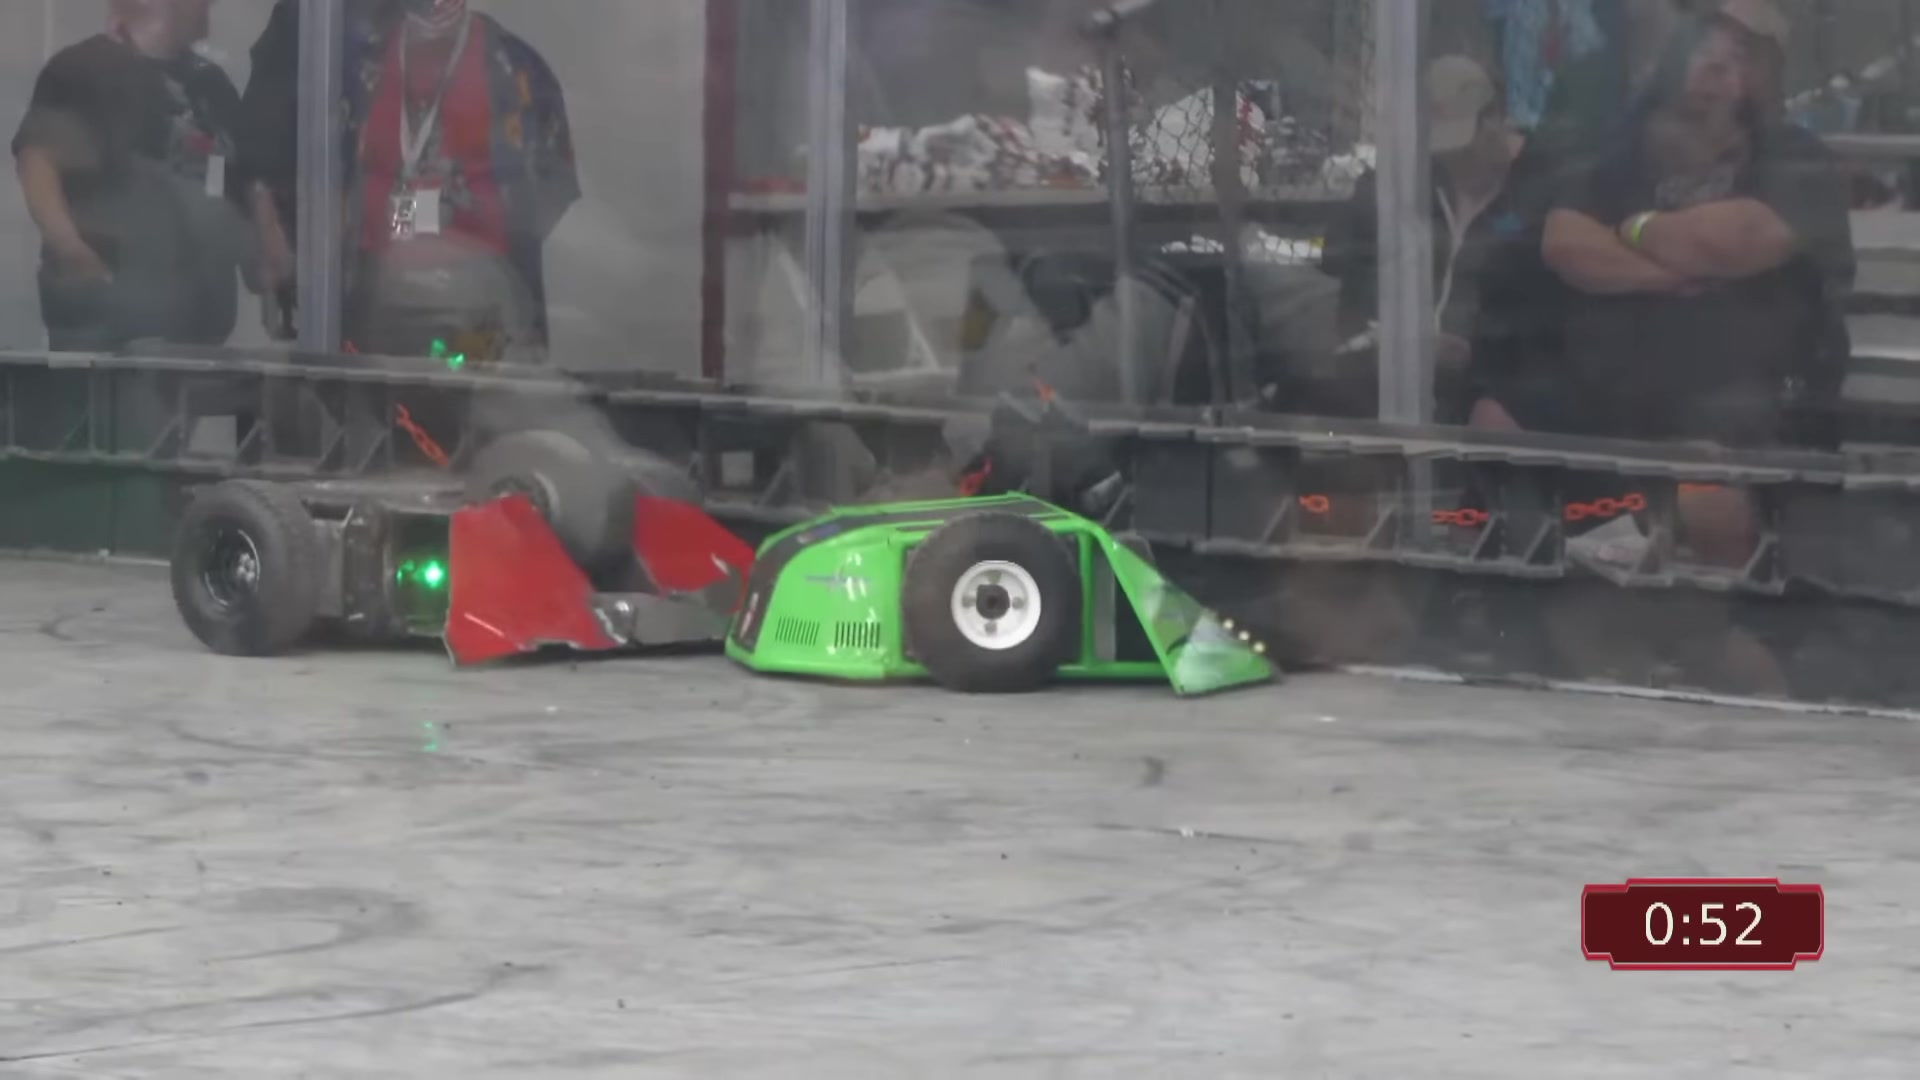combatbot: (170, 429, 757, 666), (725, 488, 1288, 712)
